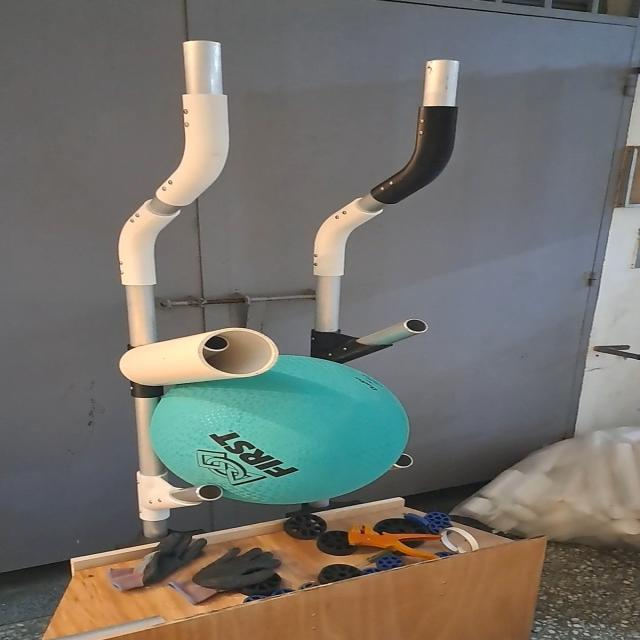ALGAE: (154, 351, 413, 508)
CORAL: (121, 324, 279, 390)
